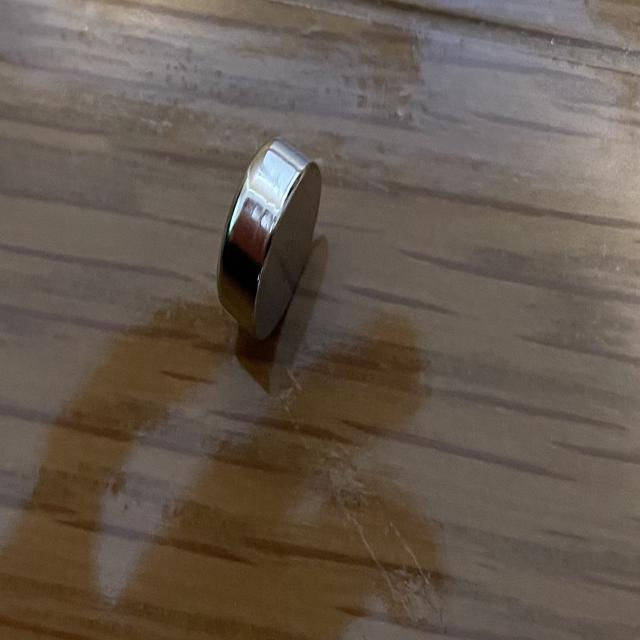COIN: (216, 132, 325, 342)
